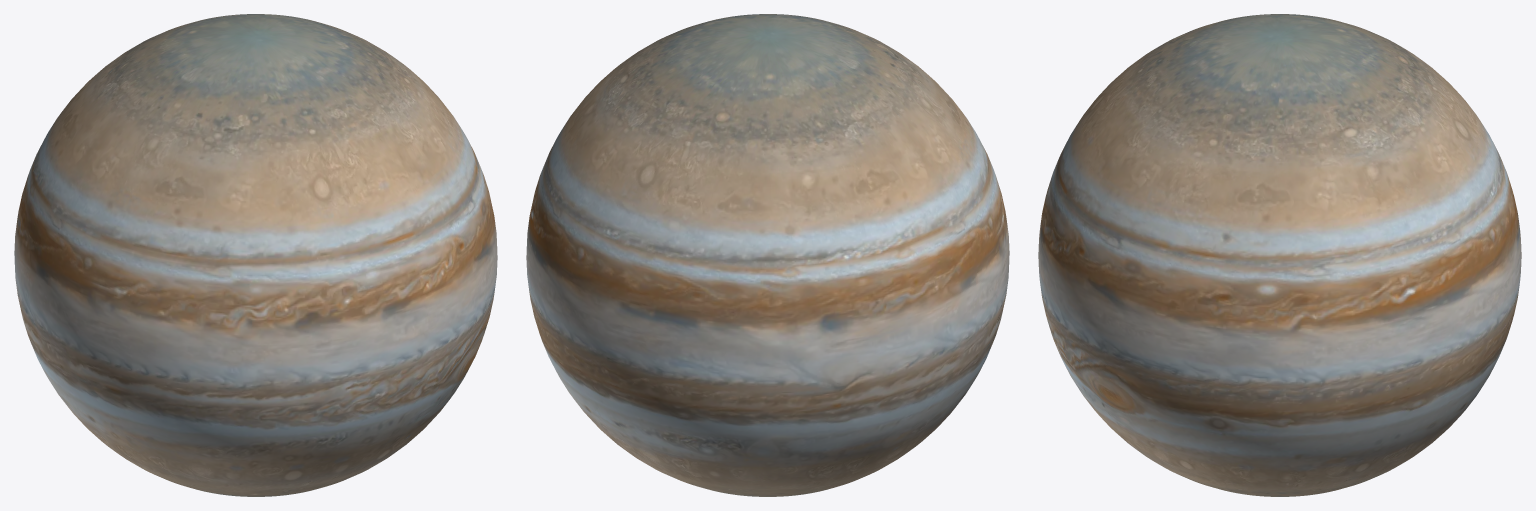
3 views of the same model, side by side, from view 1: azimuth 30°, elevation 25°; view 2: azimuth 150°, elevation 25°; view 3: azimuth 270°, elevation 25° (orthographic).
Visible parts, largest first — view 1: Mars; view 2: Mars; view 3: Mars.
Part boxes in pixels (left/top/right/bottom): Mars: left=14, top=14, right=497, bottom=496; Mars: left=526, top=14, right=1009, bottom=496; Mars: left=1038, top=14, right=1521, bottom=496.
Size of the model in its own units: 12.71 by 12.71 by 12.71.
Materials: 1 (1 with a texture image).
